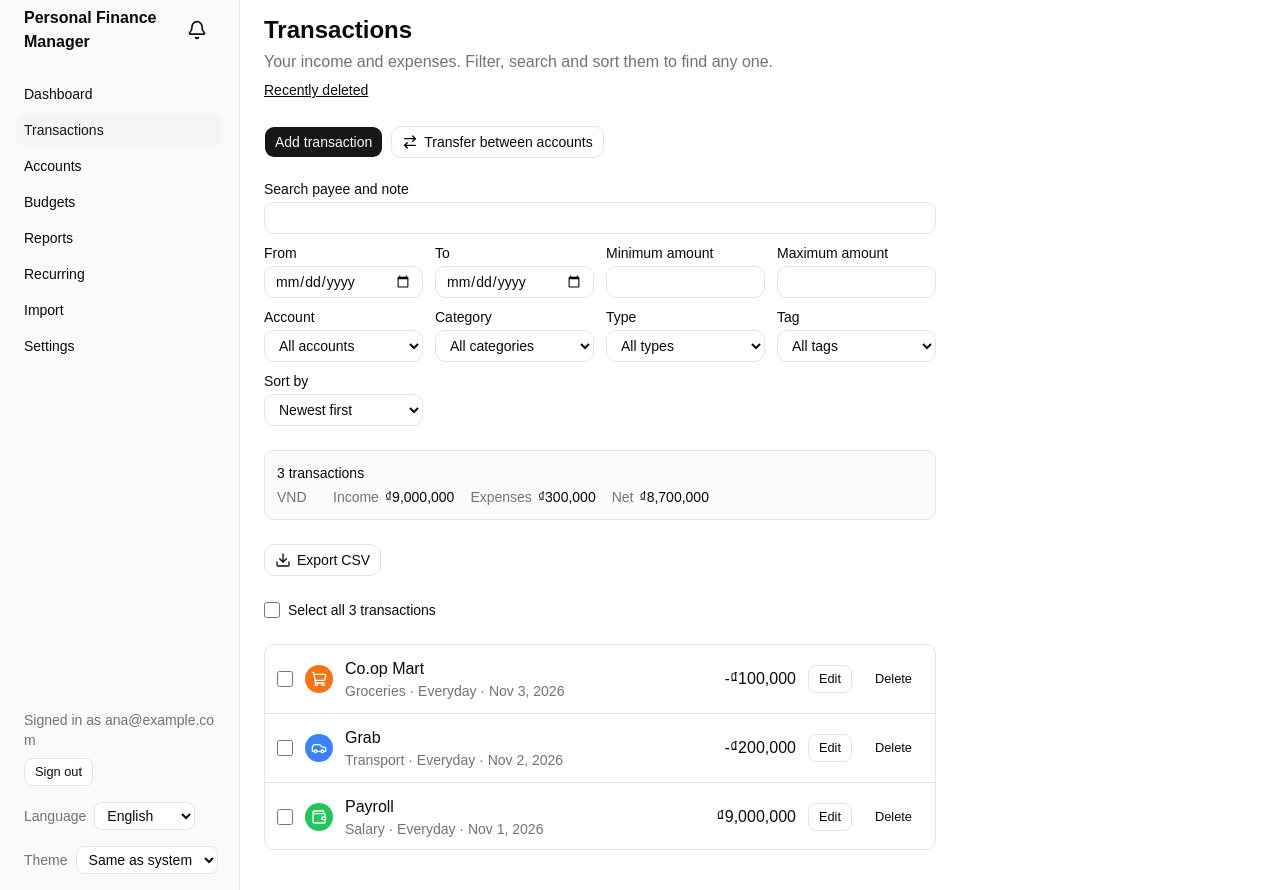
Scenario: bulk actions › say which of the category and the account named can no longer be chosen, field by field
Step 1. Click the checkbox named "Select Grab" → (285, 748), box [277, 740, 293, 756]
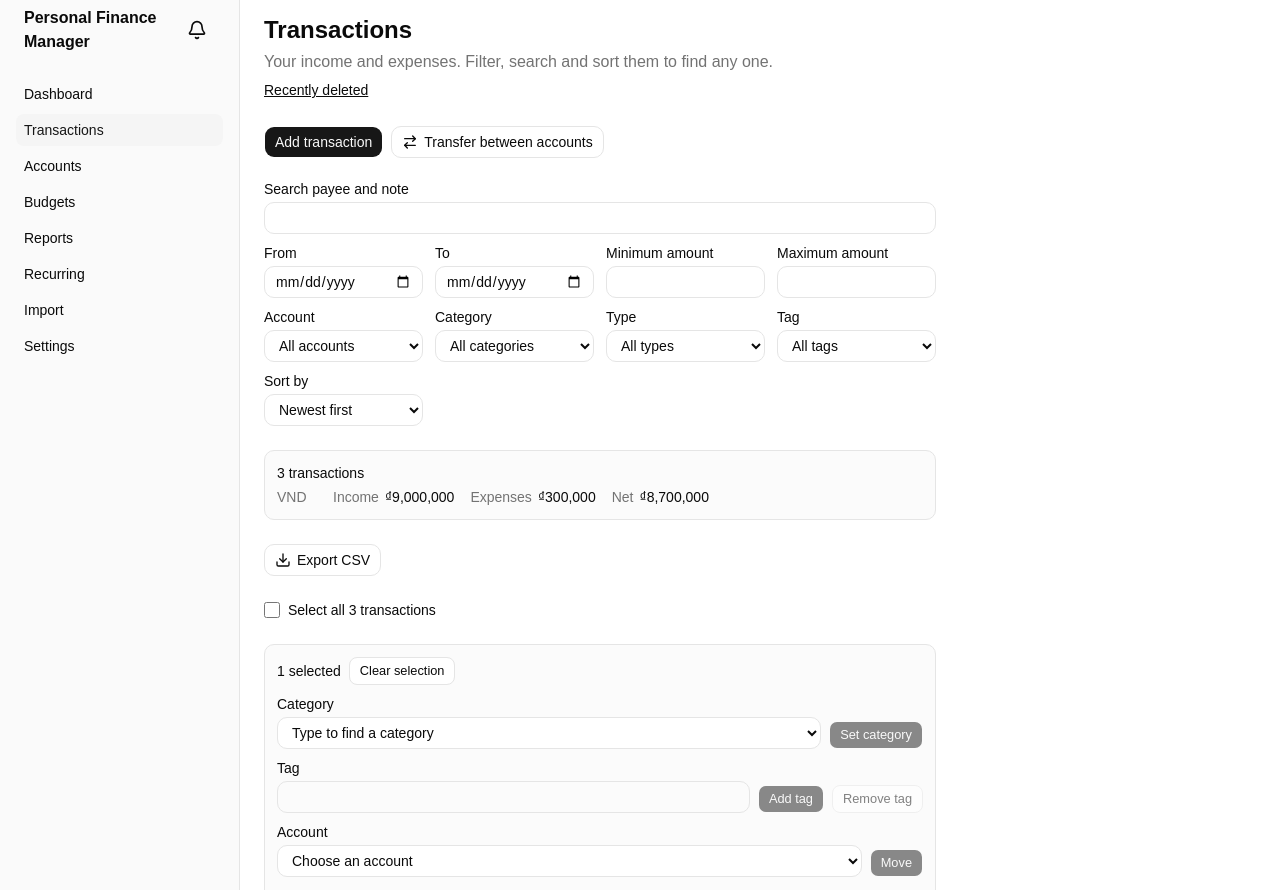
Step 2. Select "Food & drink › Eating out" in the dropdown labelled "Category" below "1 selected" → (549, 733), box [277, 717, 821, 749]
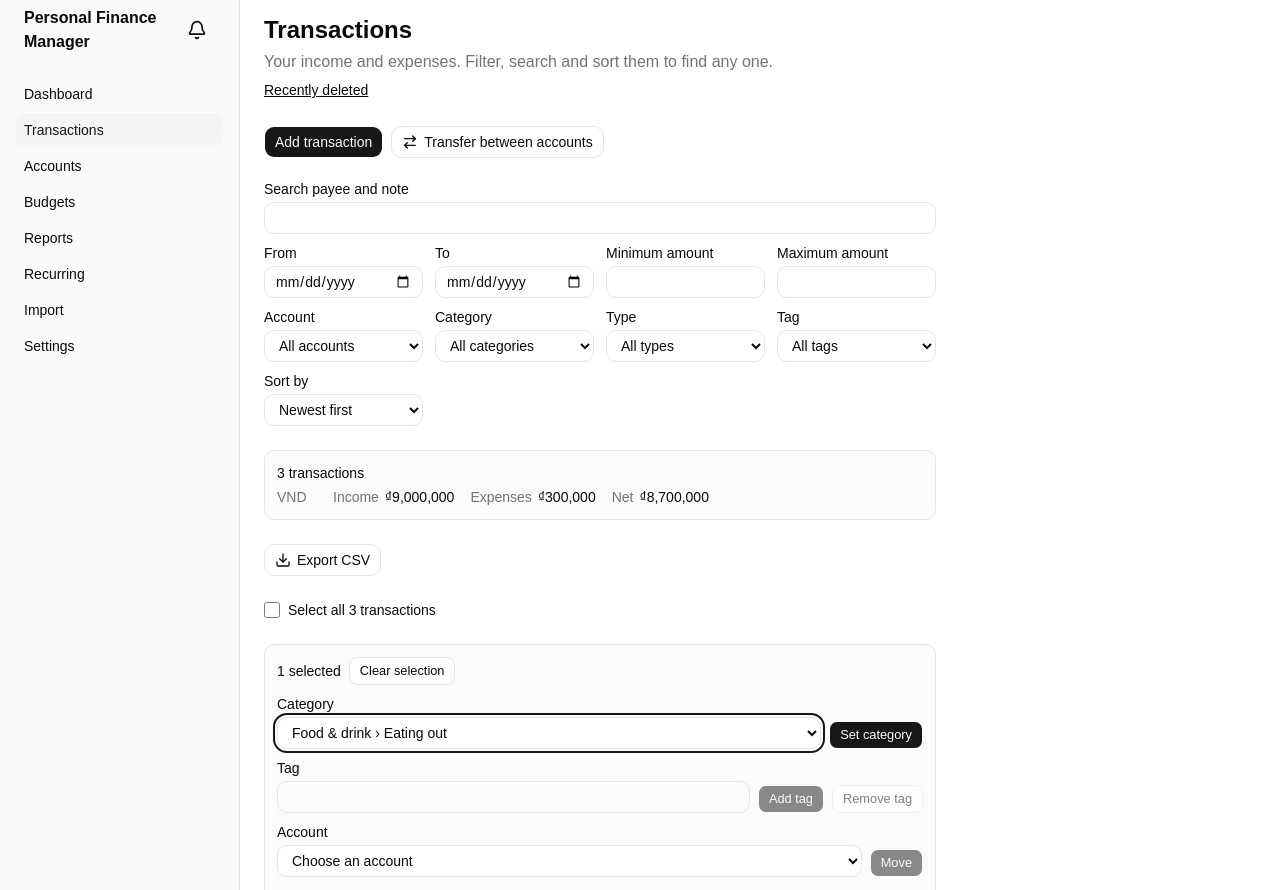
Step 3. Click the button "Set category" → (876, 735), box [829, 721, 923, 749]
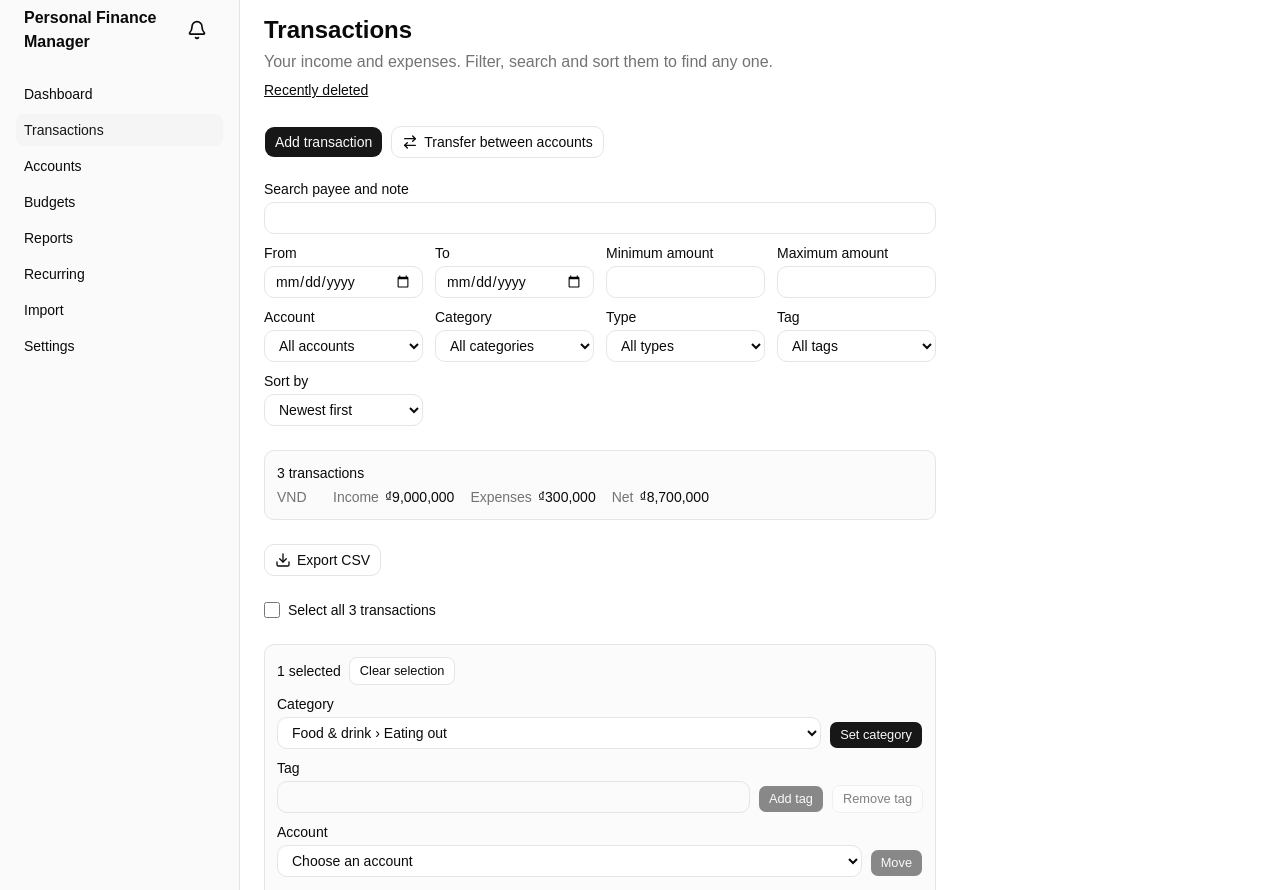
Step 4. Select "Savings" in the dropdown labelled "Account" below "1 selected" → (569, 861), box [277, 845, 862, 877]
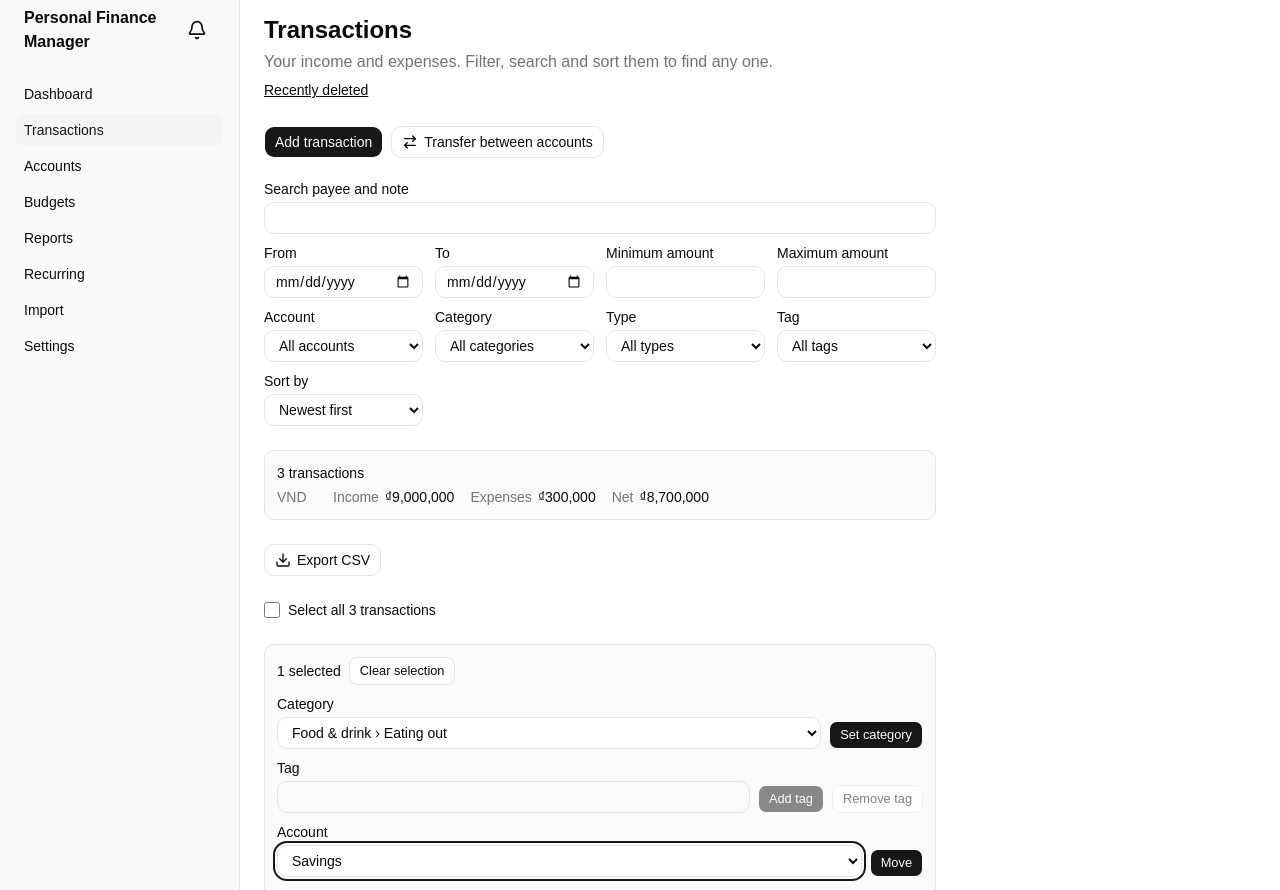
Step 5. Click the button "Move" → (896, 863), box [870, 849, 923, 877]
(page scrolled)
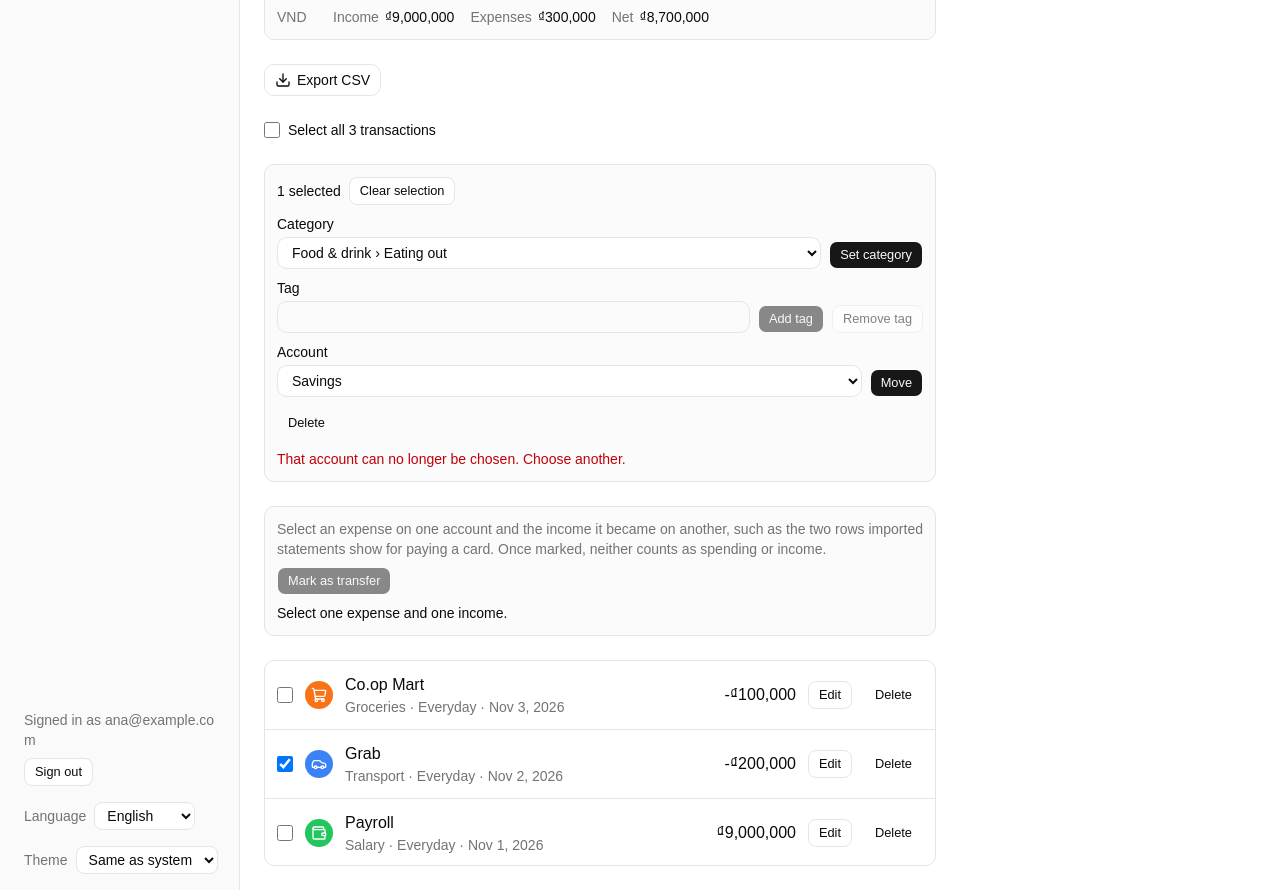
Check: the text "That account can no longer be chosen. Choose another." is shown, box [277, 451, 626, 467]
